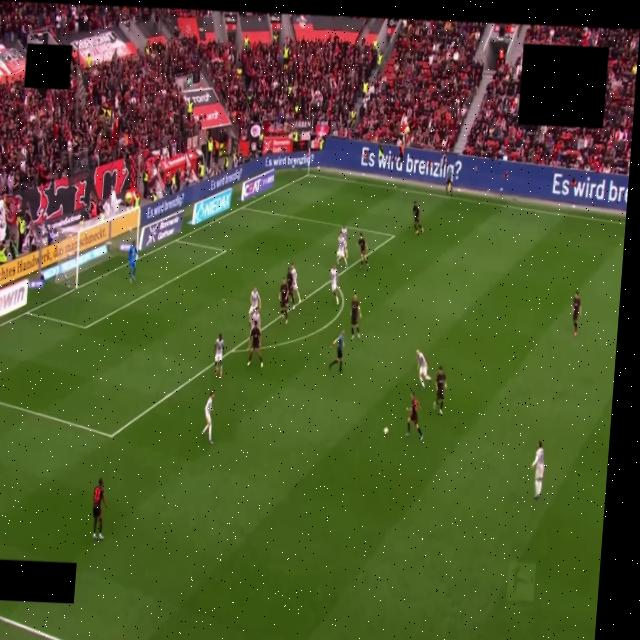ball: (383, 427, 388, 435)
player: (93, 478, 107, 540), (406, 393, 423, 440), (531, 441, 544, 499), (202, 392, 214, 444), (248, 326, 263, 367), (433, 367, 446, 414), (416, 350, 431, 388), (126, 241, 139, 284), (248, 287, 261, 326), (279, 278, 290, 324), (350, 295, 361, 339), (214, 334, 224, 378), (572, 291, 581, 337), (290, 264, 300, 302), (286, 267, 295, 309), (358, 233, 368, 269), (330, 266, 339, 304), (337, 233, 347, 266), (413, 202, 423, 234), (341, 226, 348, 258), (252, 308, 260, 328), (446, 170, 452, 194)
referee: (329, 330, 344, 371)
